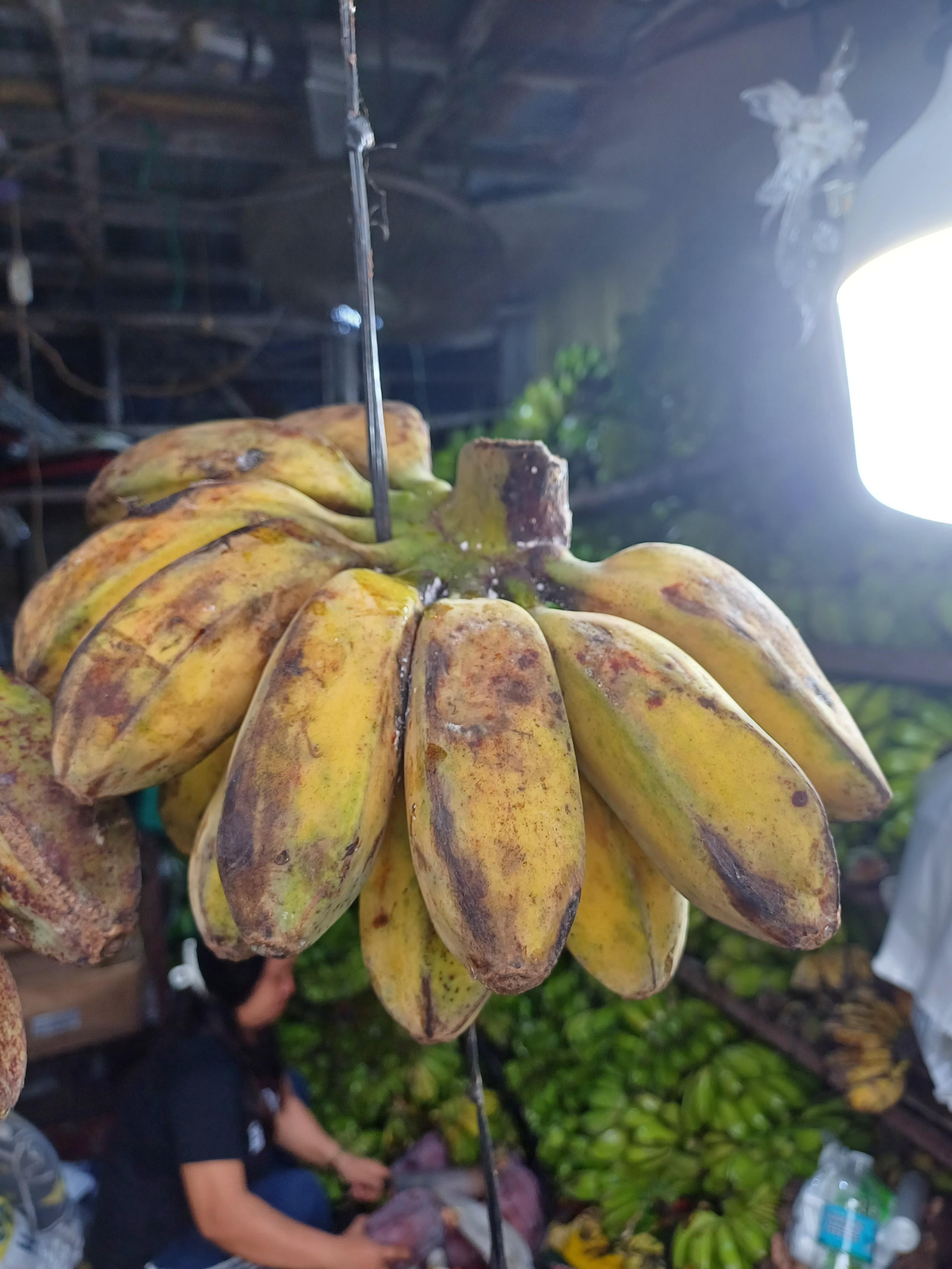ripe: (15, 403, 890, 1042)
